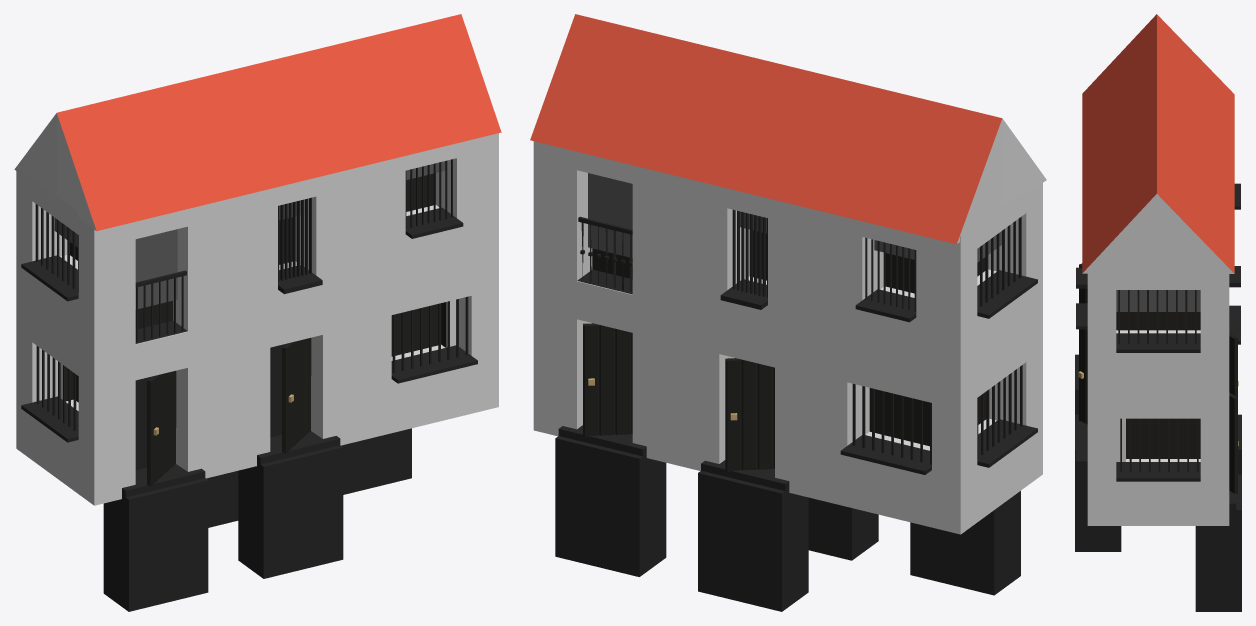
Rendered from casa_procedural_relleno_5.fbx.
3 views of the same model, side by side, from view 1: azimuth 30°, elevation 25°; view 2: azimuth 150°, elevation 25°; view 3: azimuth 270°, elevation 25° (orthographic). The views are drawn at different scales.
Parts seen in each view (by area): view 1: casa procedural_relleno_5; view 2: casa procedural_relleno_5; view 3: casa procedural_relleno_5.
Part boxes in pixels (<box>): casa procedural_relleno_5: <box>14,14,501,611</box>; casa procedural_relleno_5: <box>530,14,1046,611</box>; casa procedural_relleno_5: <box>1075,14,1241,611</box>.
Bounding box in the file's own units: 316 × 335 × 118.
